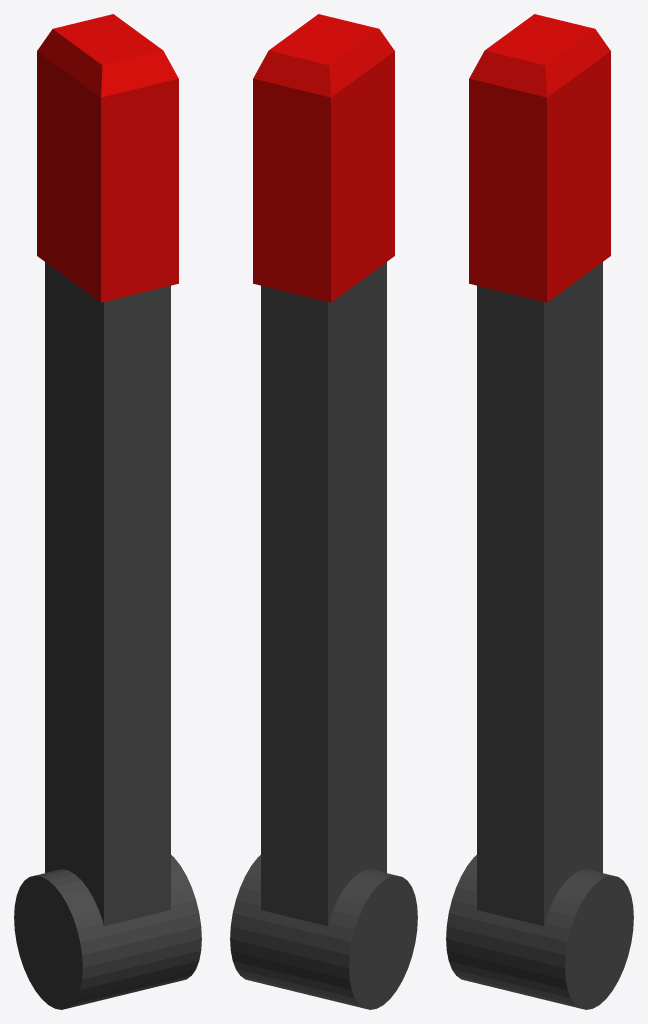
File: RedLeverWOB.glb
3 views of the same model, side by side, from view 1: azimuth 30°, elevation 25°; view 2: azimuth 150°, elevation 25°; view 3: azimuth 330°, elevation 25° (orthographic).
Visible parts, largest first — view 1: Handle, Top; view 2: Handle, Top; view 3: Handle, Top.
Part boxes in pixels (x1,y1,x2,y2): Handle: (14, 262, 201, 1009); Top: (37, 14, 178, 302); Handle: (230, 262, 417, 1009); Top: (253, 14, 394, 302); Handle: (446, 262, 633, 1009); Top: (469, 14, 610, 302).
Size of the model in its own units: 0.1393 by 1.06 by 0.1393.
